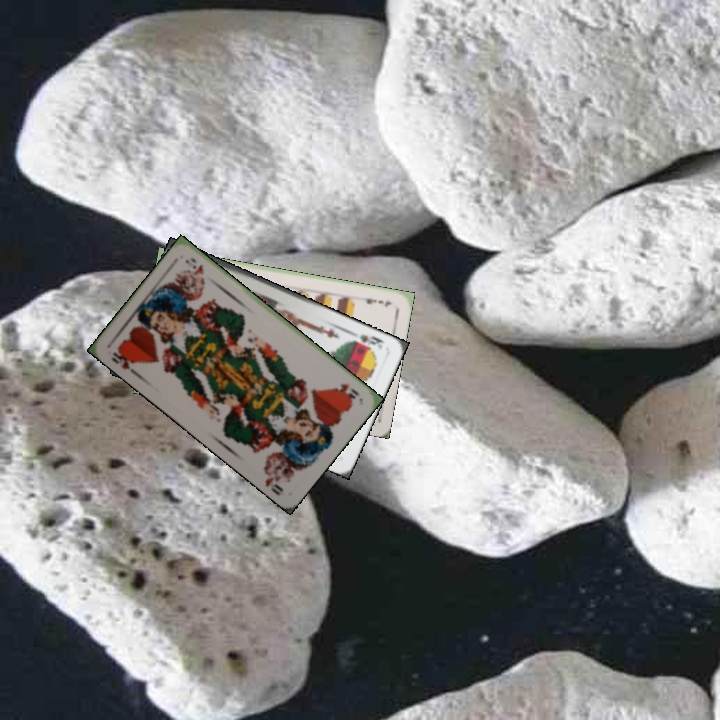E7: (356, 293, 394, 310)
HO: (107, 344, 138, 372), (331, 379, 361, 403)
SK: (349, 330, 387, 352)
